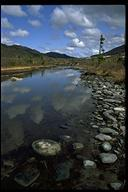cloud: (49, 7, 123, 43)
sky: (5, 8, 122, 32)
stone: (89, 79, 123, 165)
water: (5, 65, 86, 184)
